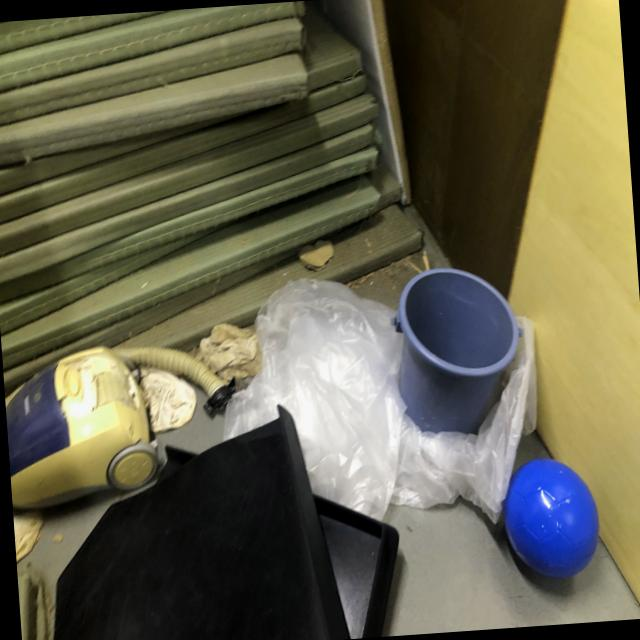blue_ball: (502, 454, 601, 586)
